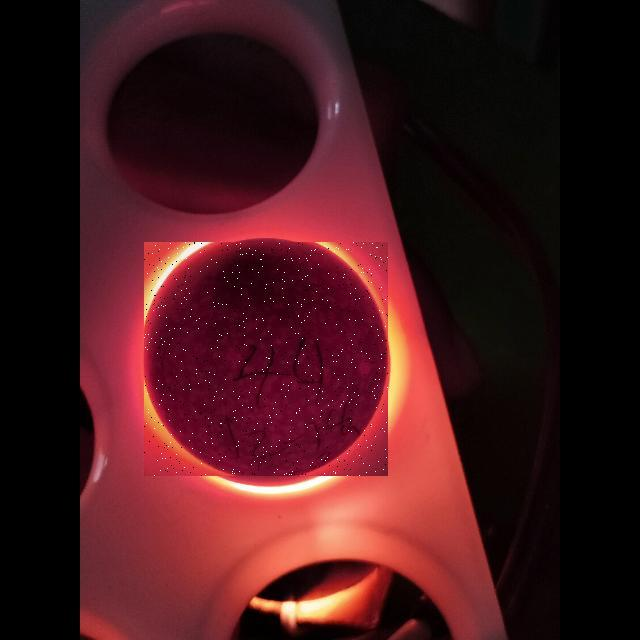Fertile: (144, 242, 388, 476)
